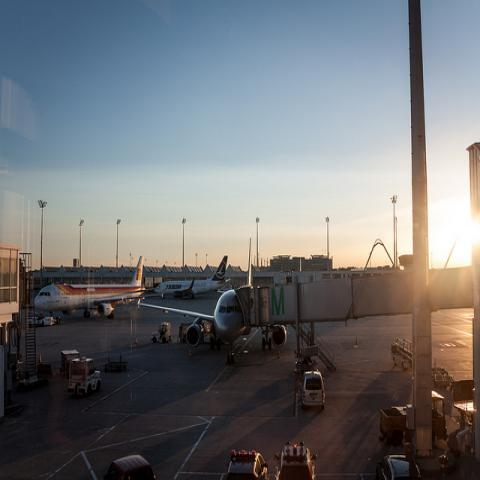car: (273, 439, 318, 479), (102, 454, 157, 479), (226, 449, 268, 479), (300, 371, 326, 410), (376, 456, 409, 479)
truck: (67, 356, 102, 397), (103, 454, 156, 479), (300, 369, 324, 418), (391, 336, 413, 369)
